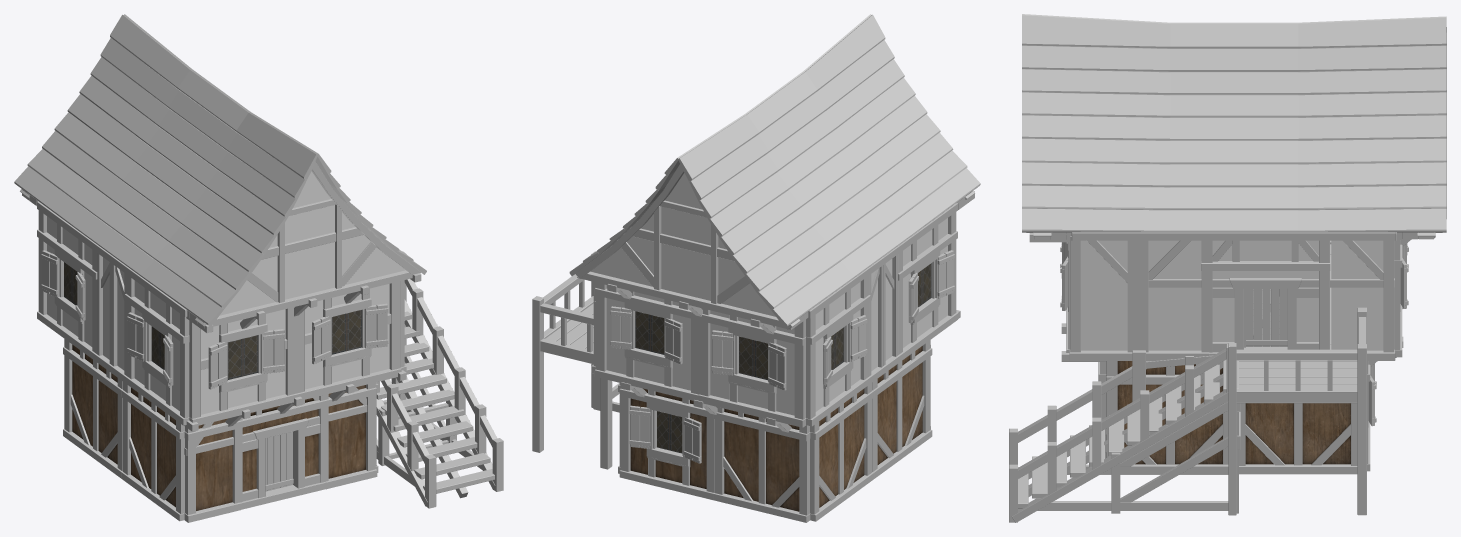
File: House_1A4.fbx
3 renders of one model, left to right at view 1: azimuth 30°, elevation 25°; view 2: azimuth 150°, elevation 25°; view 3: azimuth 270°, elevation 25°, orthographic. The views are drawn at different scales.
Parts seen in each view (by area): view 1: House_1A4, Cube.2368, Plane.365, Plane.364; view 2: House_1A4, Plane.308, Plane.307, Plane.309; view 3: House_1A4, Cube.2367.
Boxes of the visible parts, x1=… form: House_1A4: x1=14, y1=14, x2=503, y2=522; Cube.2368: x1=265, y1=431, x2=293, y2=491; Plane.365: x1=332, y1=310, x2=361, y2=354; Plane.364: x1=228, y1=335, x2=257, y2=379; House_1A4: x1=532, y1=14, x2=980, y2=522; Plane.308: x1=635, y1=311, x2=664, y2=354; Plane.307: x1=739, y1=336, x2=767, y2=380; Plane.309: x1=657, y1=411, x2=682, y2=453; House_1A4: x1=1009, y1=14, x2=1446, y2=522; Cube.2367: x1=1244, y1=288, x2=1287, y2=347.
Size of the model in its own units: 1268 by 1521 by 1465.
